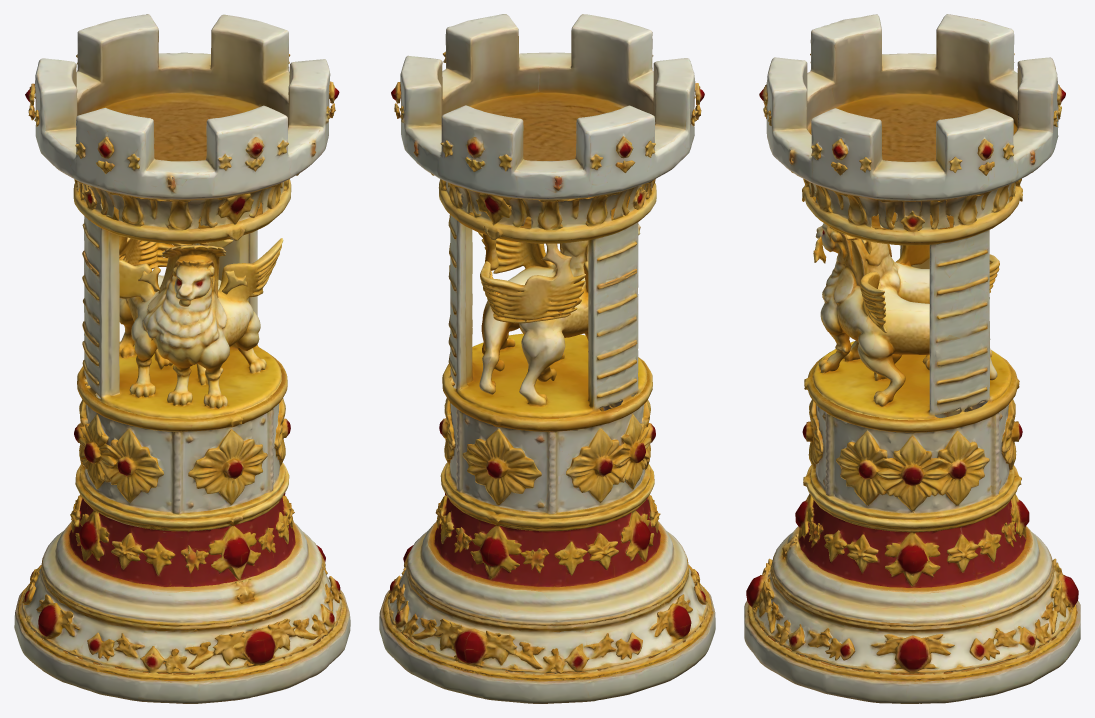
Rendered from sample_2026-11-06T105358.655.glb.
3 renders of one model, left to right at view 1: azimuth 30°, elevation 25°; view 2: azimuth 150°, elevation 25°; view 3: azimuth 270°, elevation 25°, orthographic.
Parts seen in each view (by area): view 1: world; view 2: world; view 3: world.
Part boxes in pixels (left/top/right/bottom): world: left=14, top=14, right=350, bottom=703; world: left=379, top=14, right=715, bottom=703; world: left=744, top=14, right=1080, bottom=703.
Size of the model in its own units: 0.5357 by 0.9974 by 0.5393.
1 material, 1 textured.
